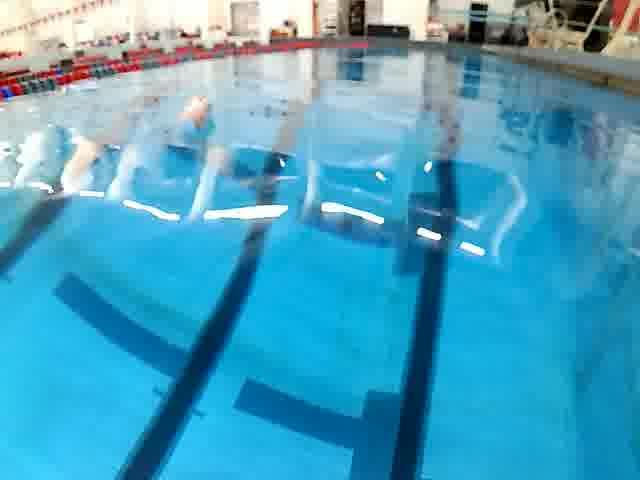Bottle: (167, 92, 214, 148)
